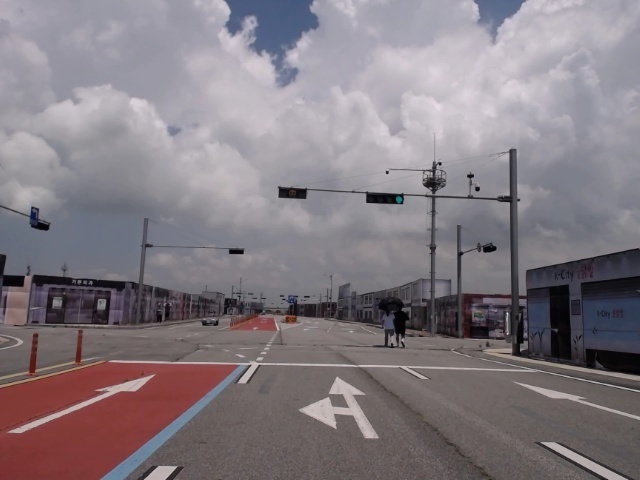straight_green_4: (366, 191, 404, 205)
